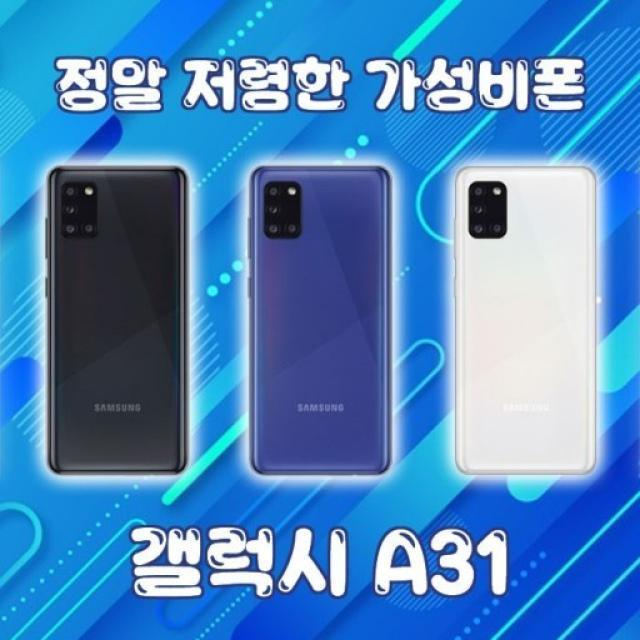phone: (44, 166, 188, 477), (455, 167, 597, 476), (248, 166, 390, 475)
